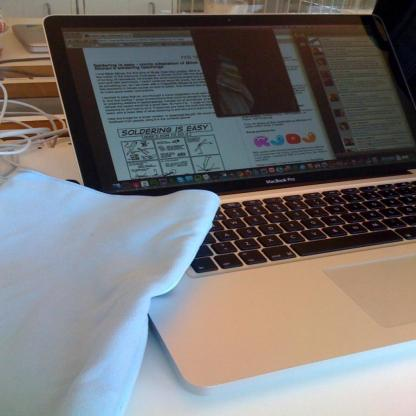board: (98, 23, 410, 372)
